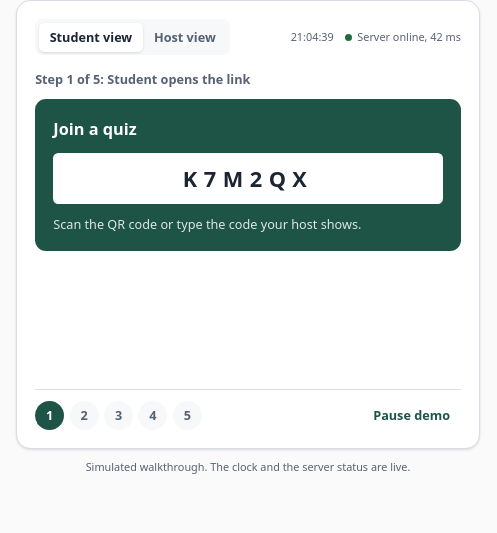
Test case: LiveDemo flow › lets a visitor answer and tells them how they did
Click the button named "step 3".
click(118, 415)  # box [104,401,133,430]
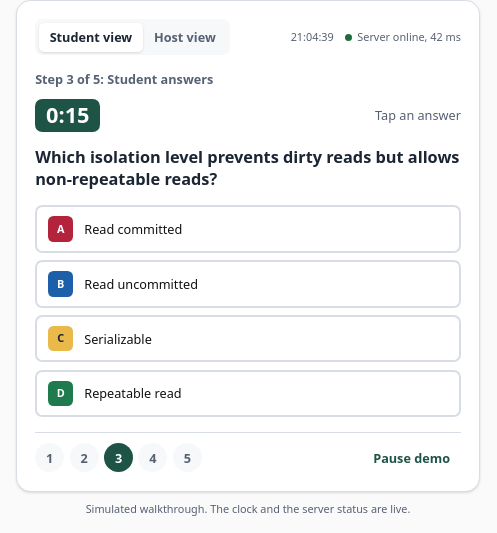
Click the button "D Repeatable read".
click(133, 393)  # box [35,370,461,417]
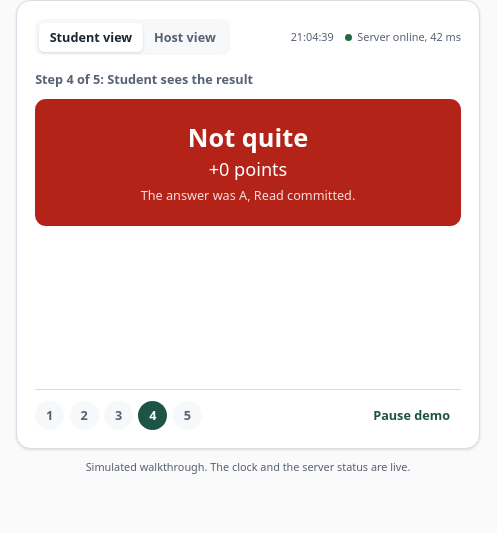
Now the message named "Answer result" shows "Not quite", box [188,120,308,154]
Click the button named "step 3".
click(118, 415)  # box [104,401,133,430]
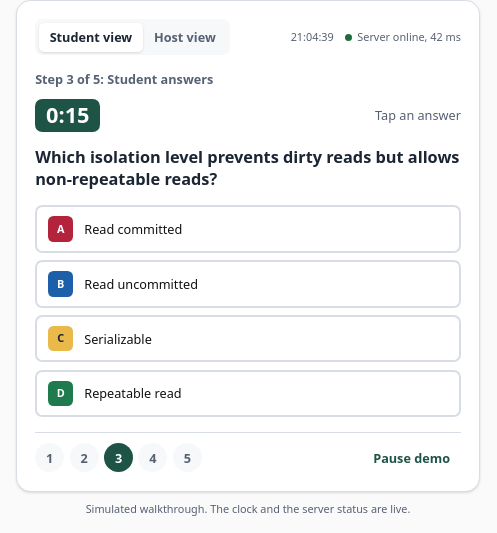
Click the button "A Read committed".
click(133, 229)  # box [35,205,461,253]
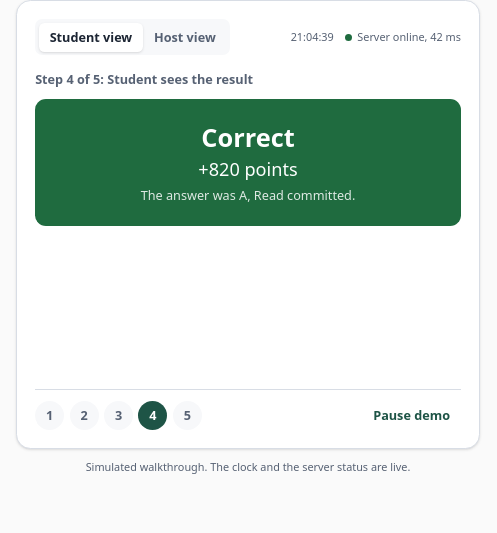
Now the message named "Answer result" shows "Correct", box [201,120,295,154]
